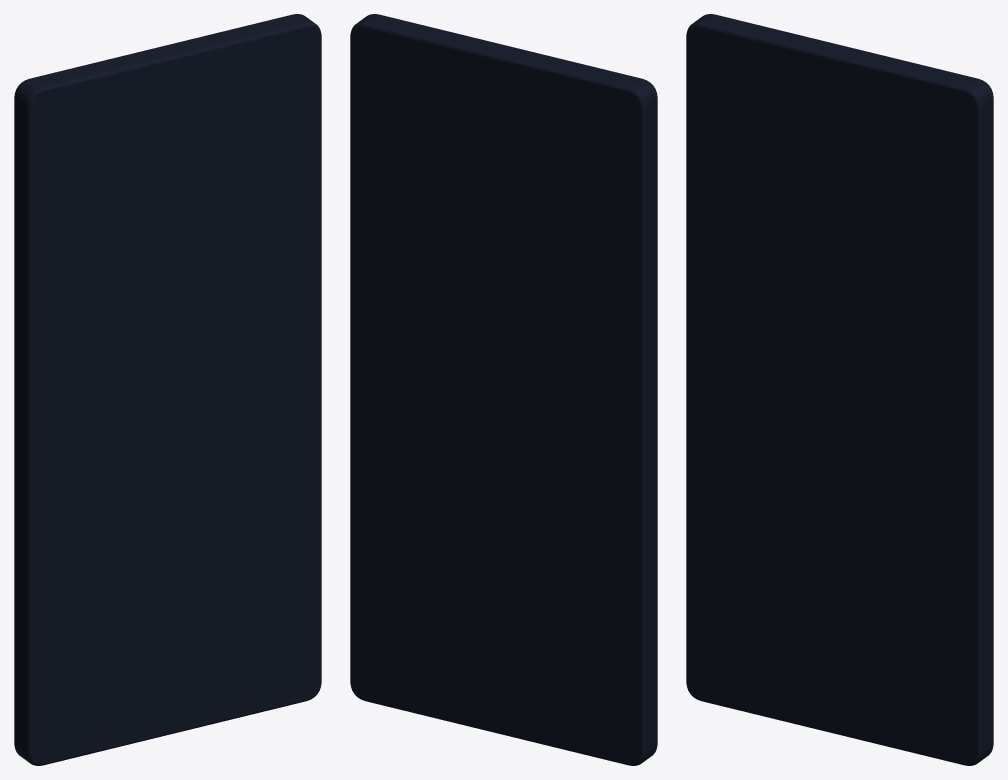
File: samsung-galaxy-s21-ultra.glb
The picture shows the model from 3 angles, left to right: view 1: azimuth 30°, elevation 25°; view 2: azimuth 150°, elevation 25°; view 3: azimuth 330°, elevation 25°; orthographic projection.
Parts seen in each view (by area): view 1: Body; view 2: Body; view 3: Body.
Boxes of the visible parts, x1=… form: Body: x1=14, y1=14, x2=321, y2=765; Body: x1=350, y1=14, x2=657, y2=765; Body: x1=686, y1=14, x2=993, y2=765.
Size of the model in its own units: 0.1227 by 0.2693 by 0.0111.
